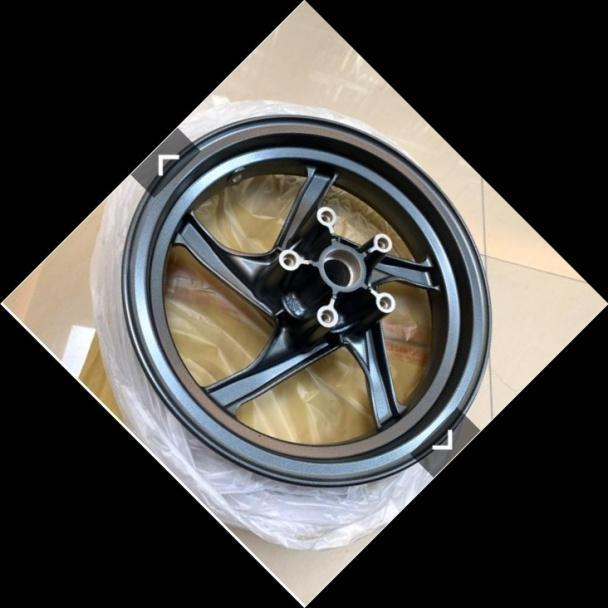hole: (273, 244, 305, 276), (369, 287, 399, 317), (311, 201, 341, 230), (313, 301, 341, 329), (369, 229, 396, 255)
